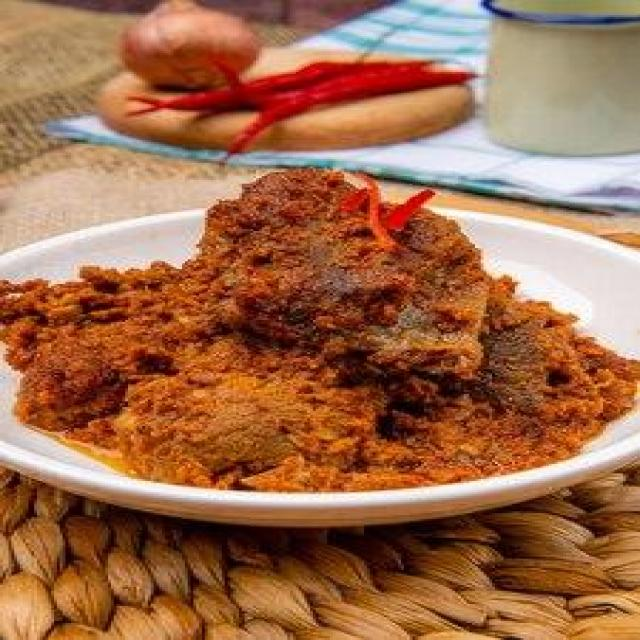Rendang: (0, 164, 640, 528)
